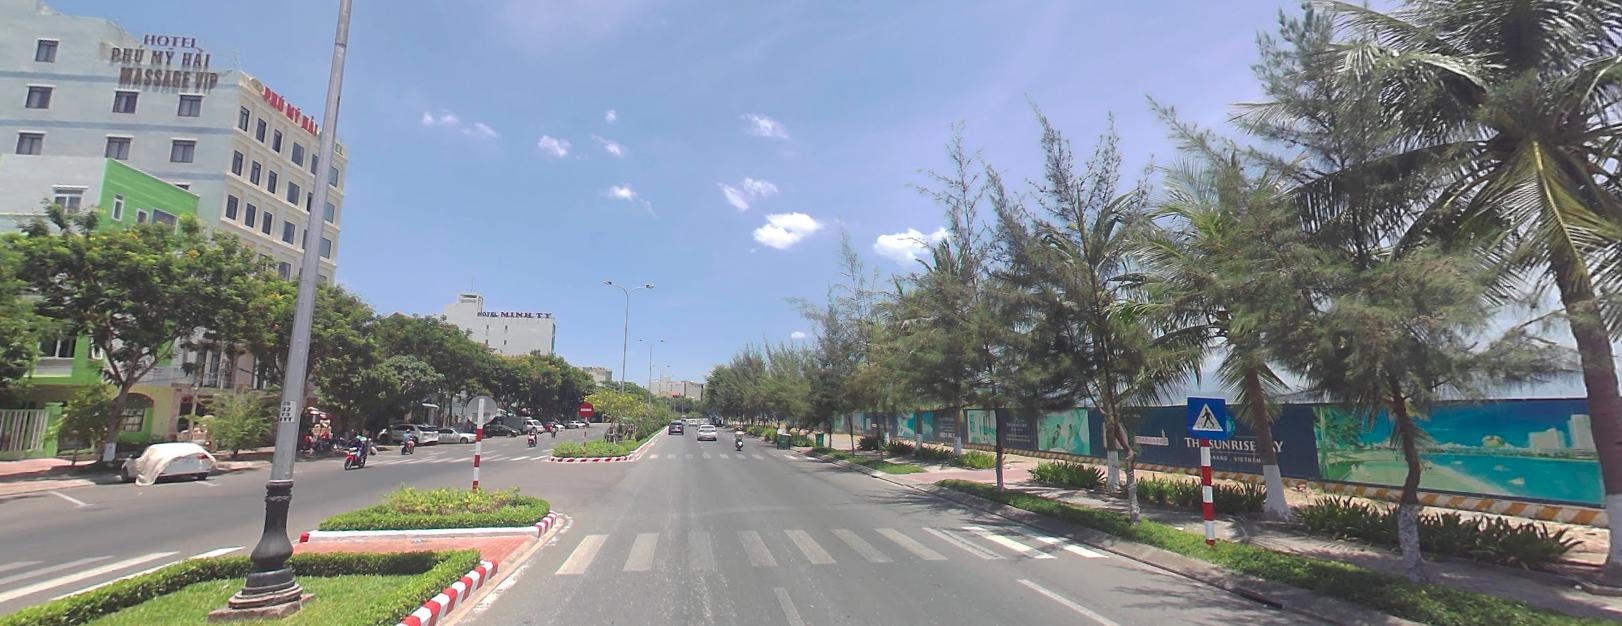Cam nguoc chieu: (578, 403, 593, 415)
